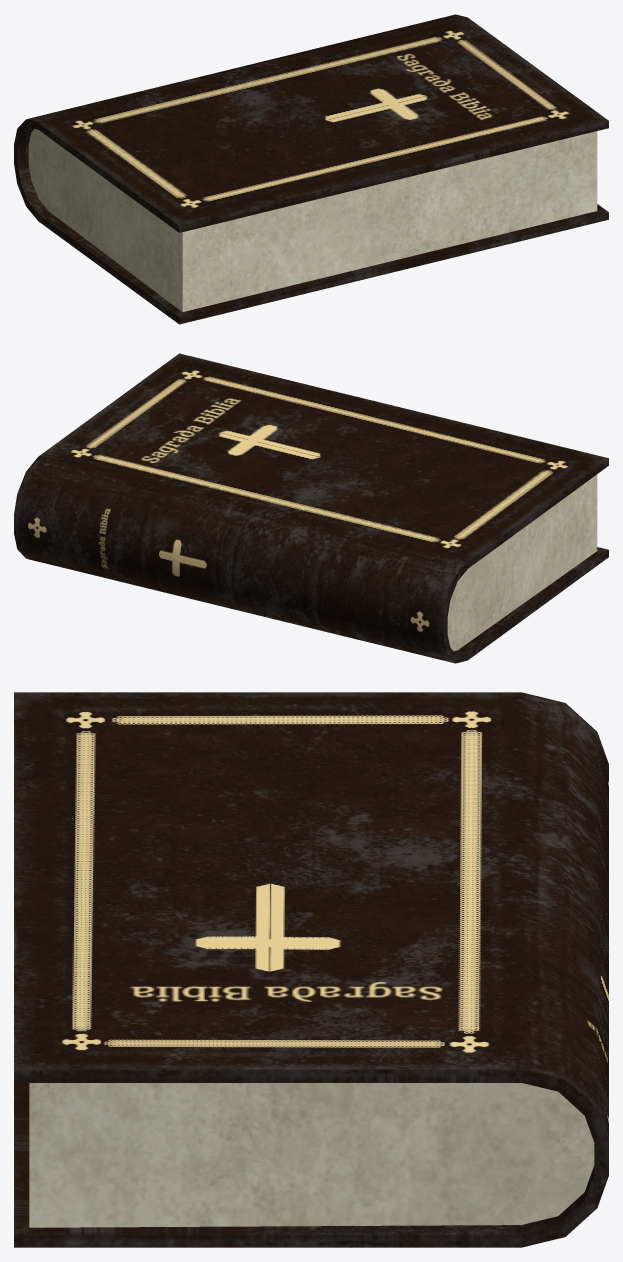
File: biblia.glb
3 views of the same model, one above another, from view 1: azimuth 30°, elevation 25°; view 2: azimuth 150°, elevation 25°; view 3: azimuth 270°, elevation 25° (orthographic). The views are drawn at different scales.
Visible parts, largest first — view 1: Object_2; view 2: Object_2; view 3: Object_2.
Boxes of the visible parts, x1,y1,x2,y2 form: Object_2: (14, 14, 608, 324); Object_2: (14, 353, 608, 663); Object_2: (14, 692, 608, 1247).
Bounding box in the file's own units: 18 × 3.96 × 12.
Materials: 1 (1 with a texture image).
